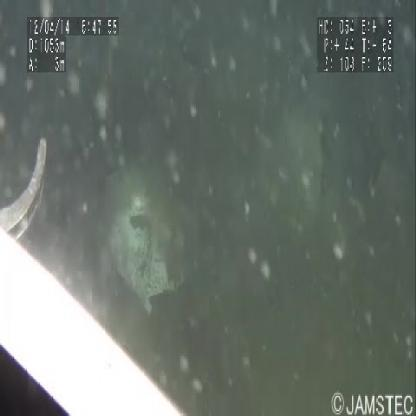Rác: (108, 168, 187, 324)
